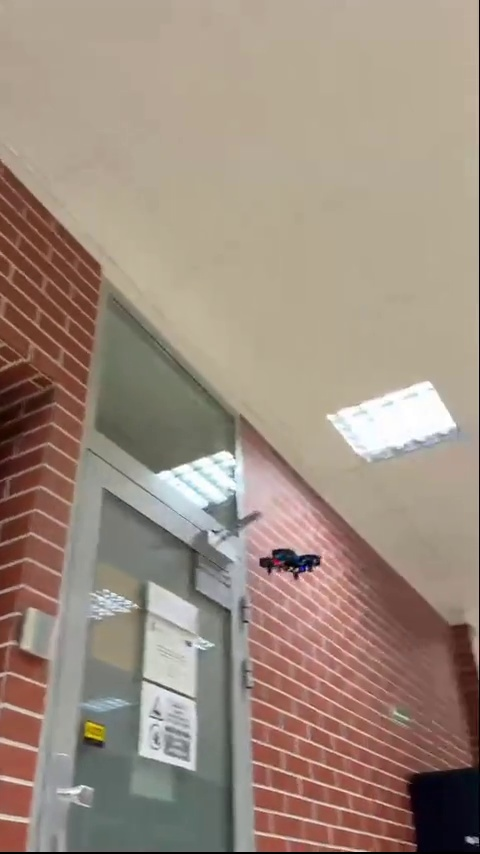drone: (257, 545, 325, 584)
